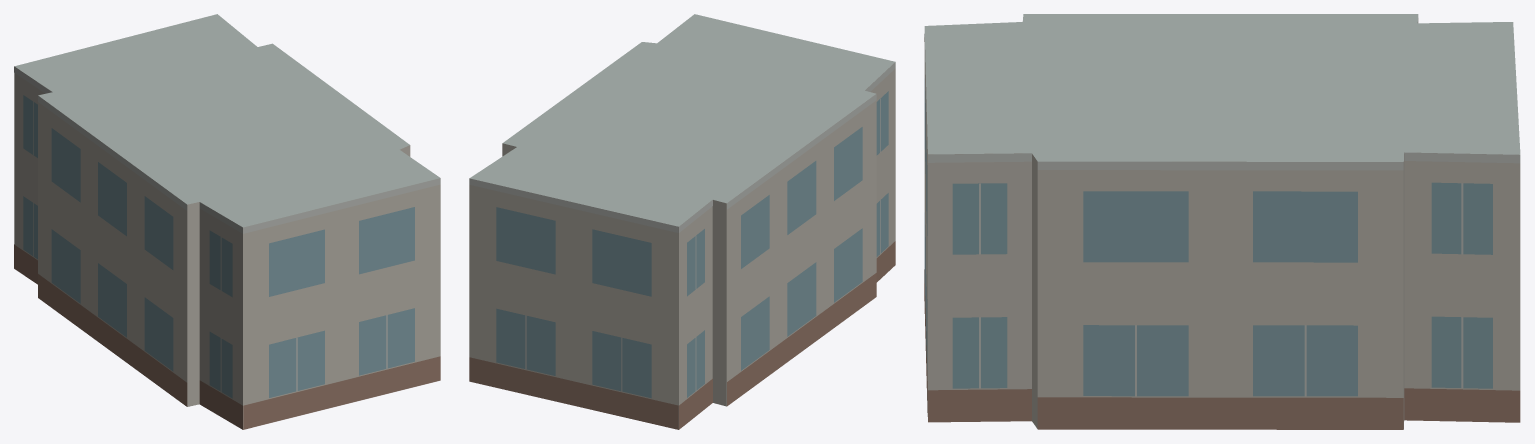
File: survey-upis-32915196.glb
3 renders of one model, left to right at view 1: azimuth 30°, elevation 25°; view 2: azimuth 150°, elevation 25°; view 3: azimuth 270°, elevation 25°, orthographic. The views are drawn at different scales.
Parts seen in each view (by area): view 1: survey-upis-32915196.tmp; view 2: survey-upis-32915196.tmp; view 3: survey-upis-32915196.tmp.
Part boxes in pixels (x1,y1,x2,y2): survey-upis-32915196.tmp: (14,14,440,429); survey-upis-32915196.tmp: (469,14,895,429); survey-upis-32915196.tmp: (924,14,1520,429).
Size of the model in its own units: 9.13 by 7.7 by 15.54.
